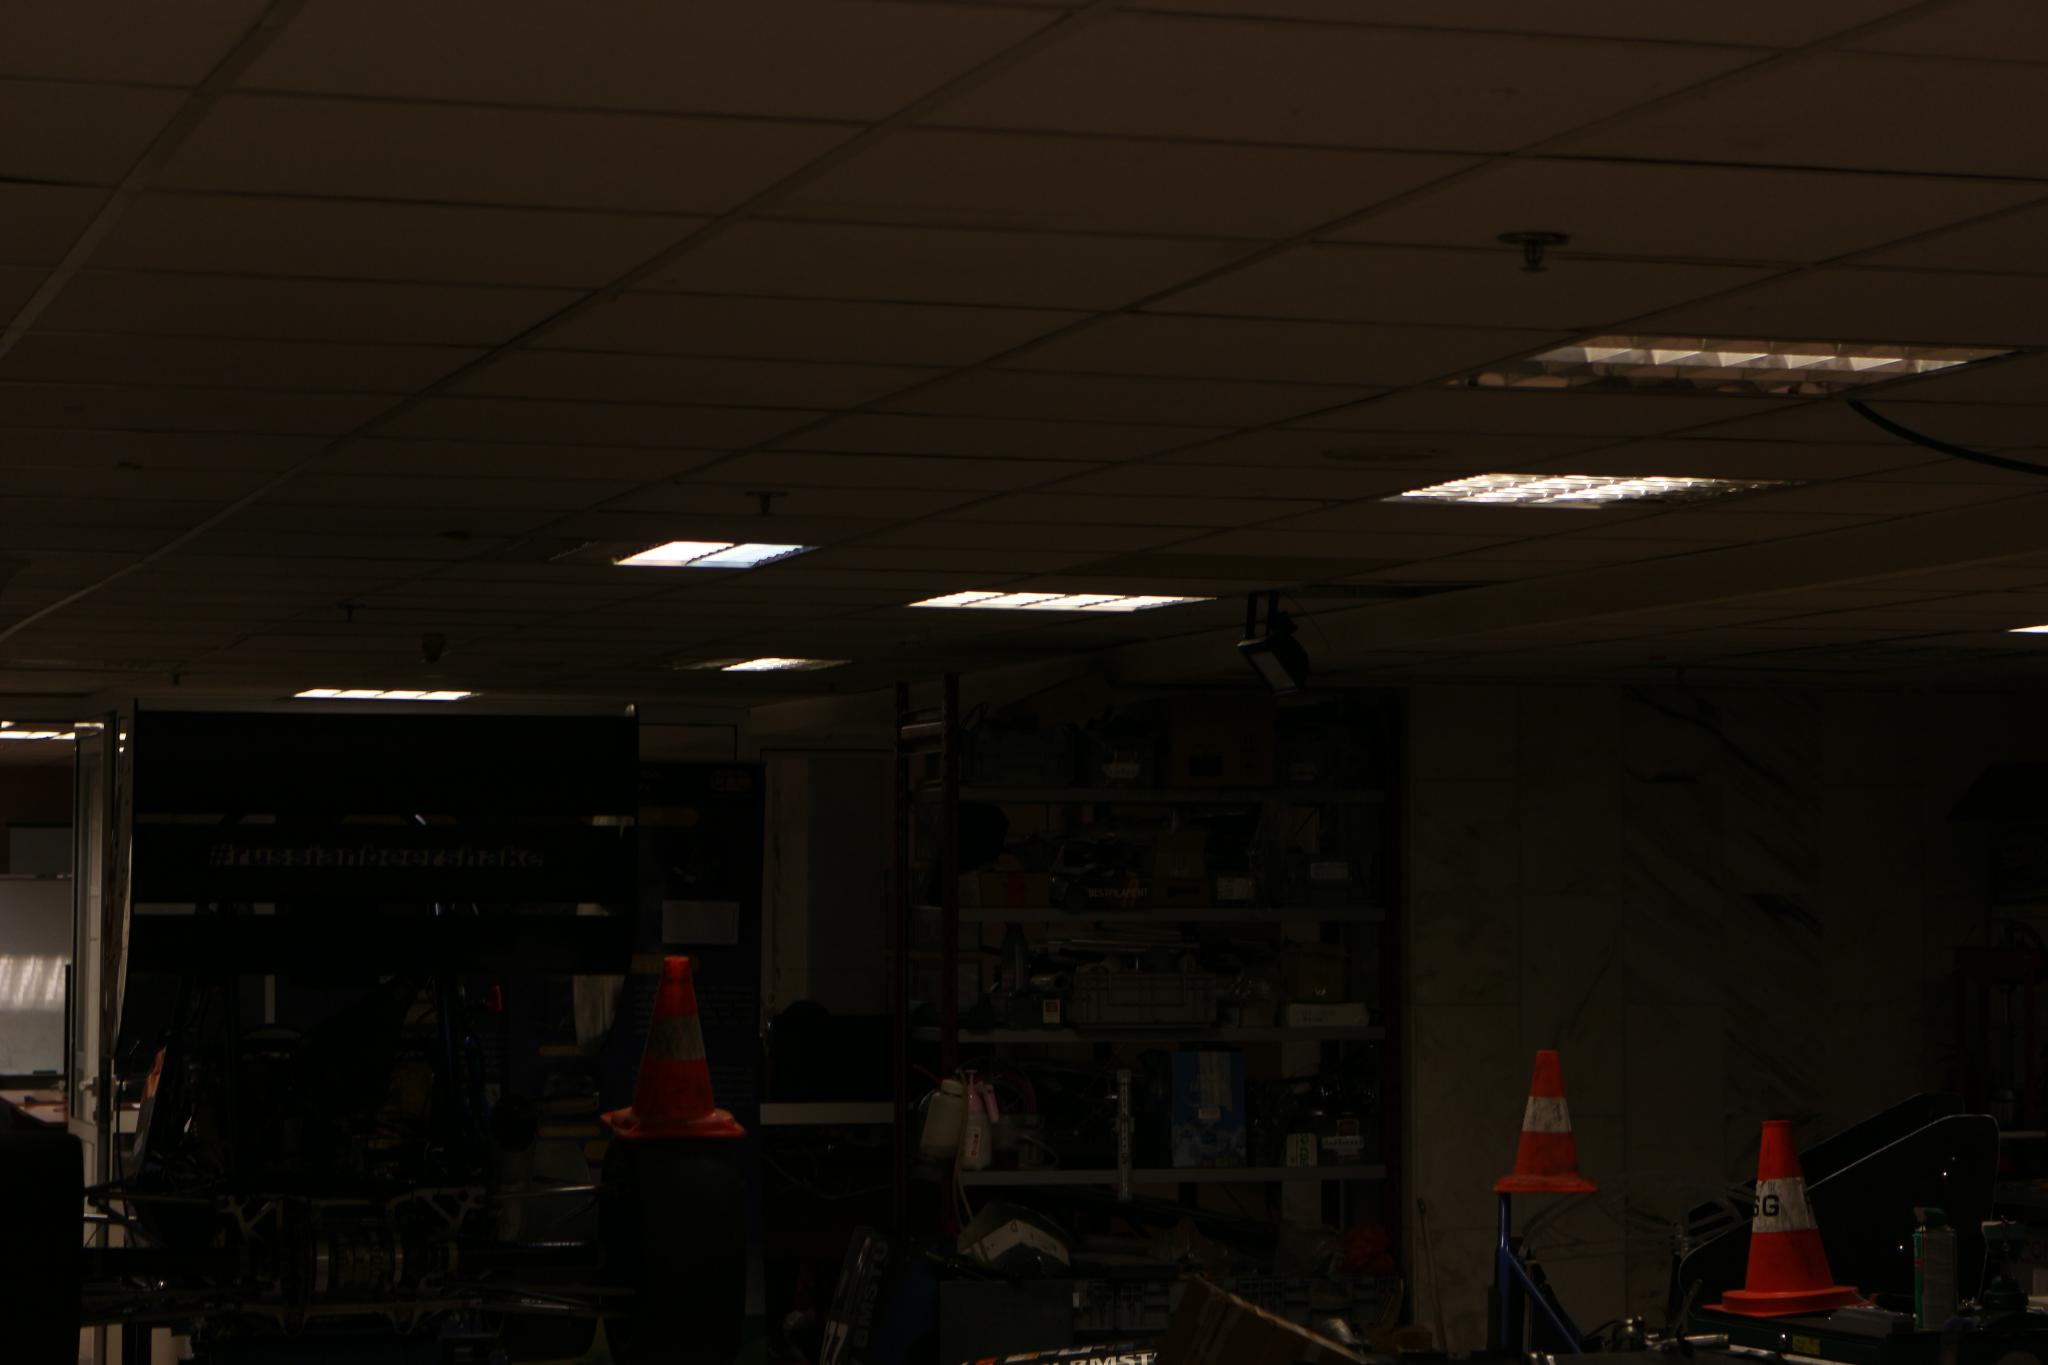Orange_Cone: (1693, 1112, 1871, 1316), (595, 948, 754, 1143), (1477, 1050, 1602, 1200)
